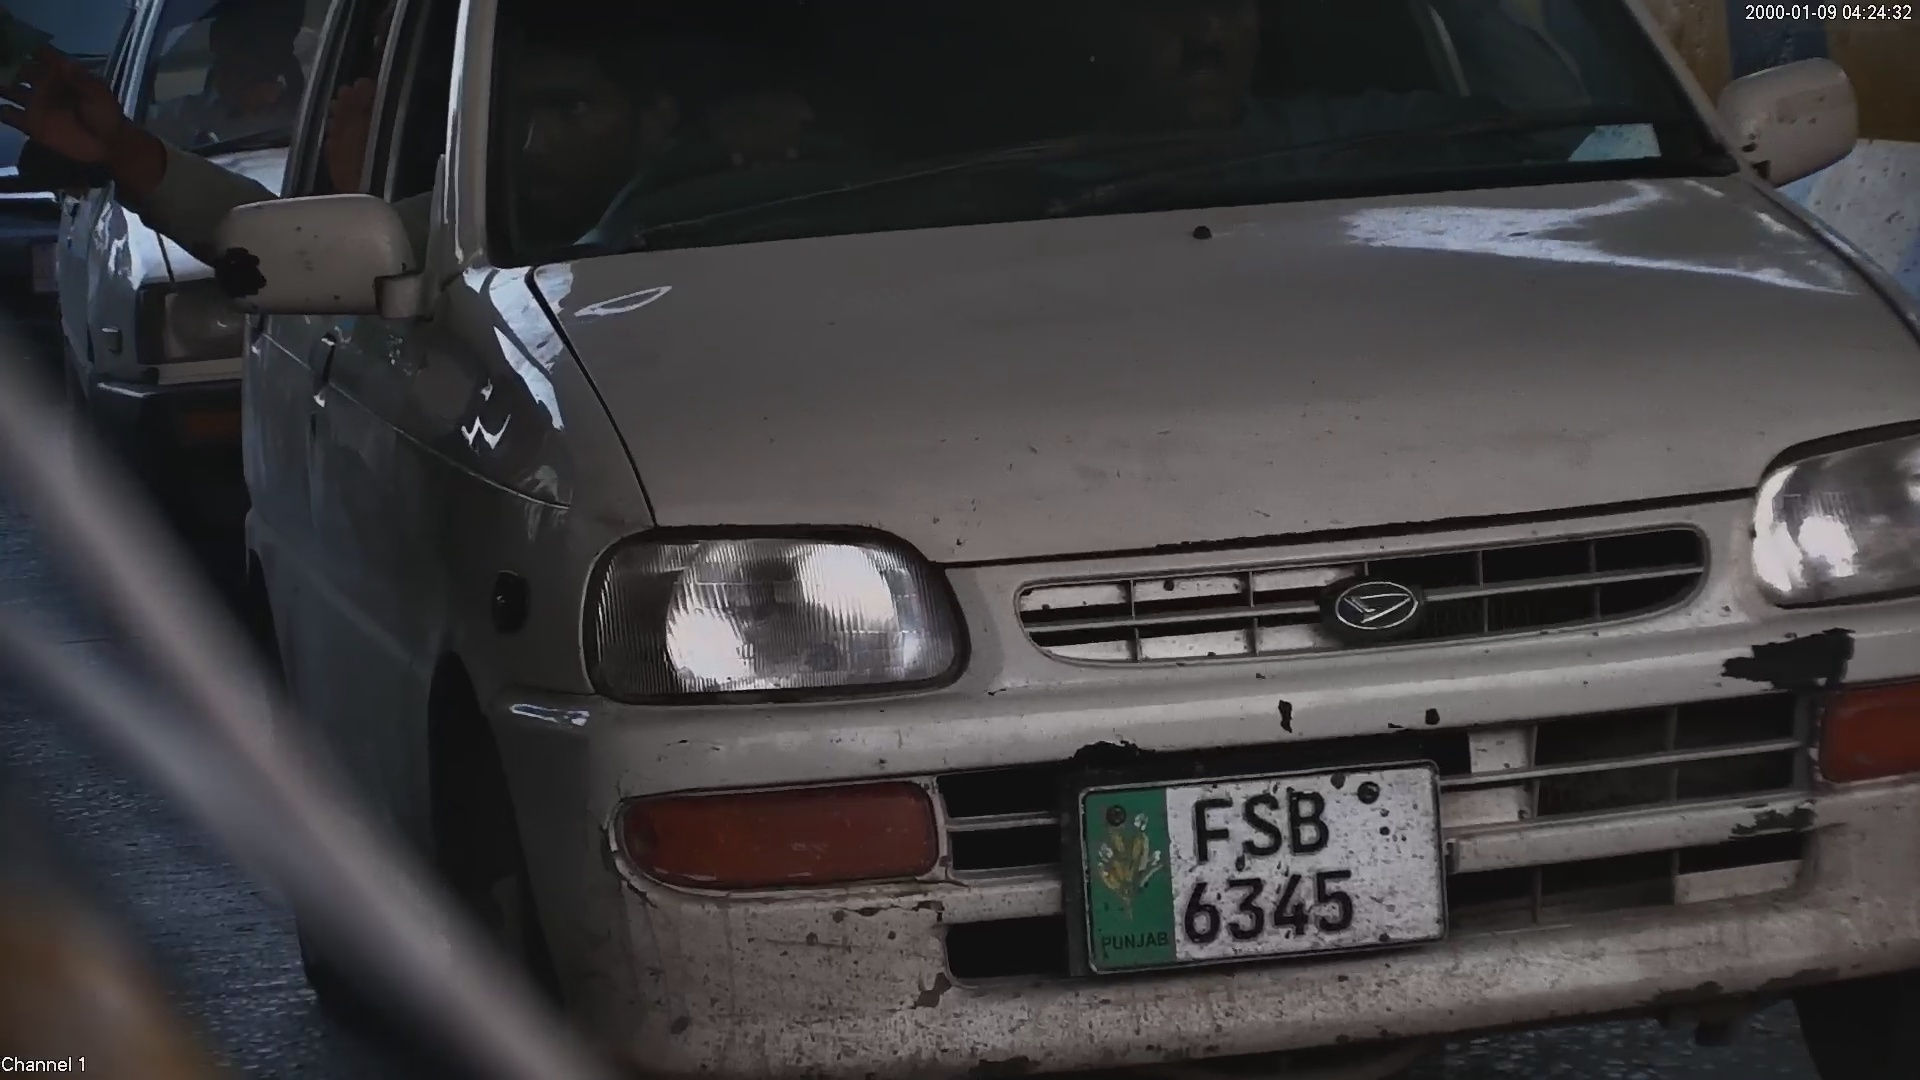Number_Plate: (1047, 751, 1458, 964)
Undefined: (617, 549, 943, 688), (639, 786, 937, 888), (1317, 566, 1415, 642)
